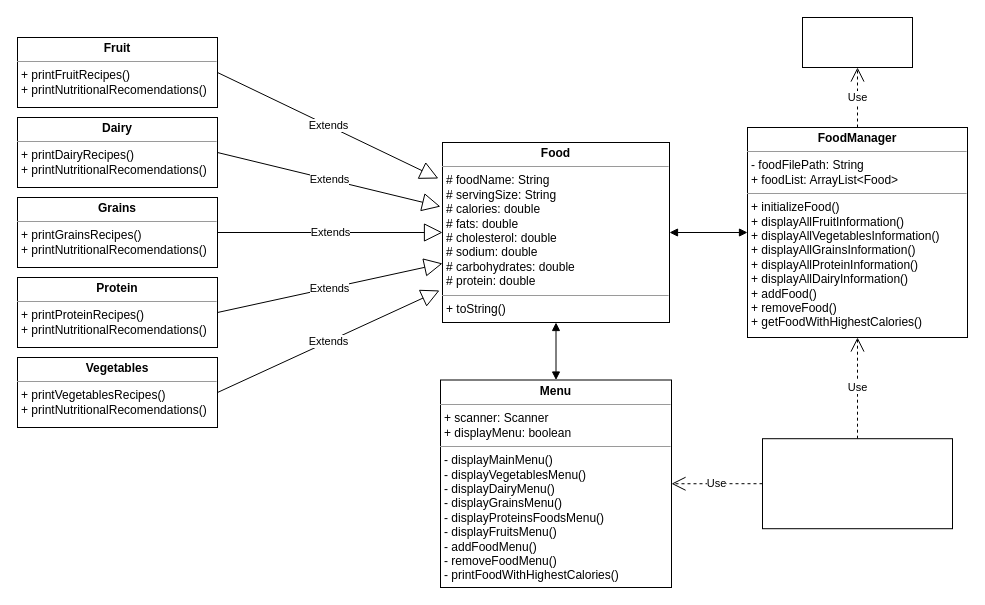
Image size: 985x605. Some labels were removed from this diagram. Here are the shapes that lost their labels. From the top down, the centre of each, then its label:
(857,42): foodList.csv
(857,483): App + foodManager: FoodManager + main() + menu.start()
